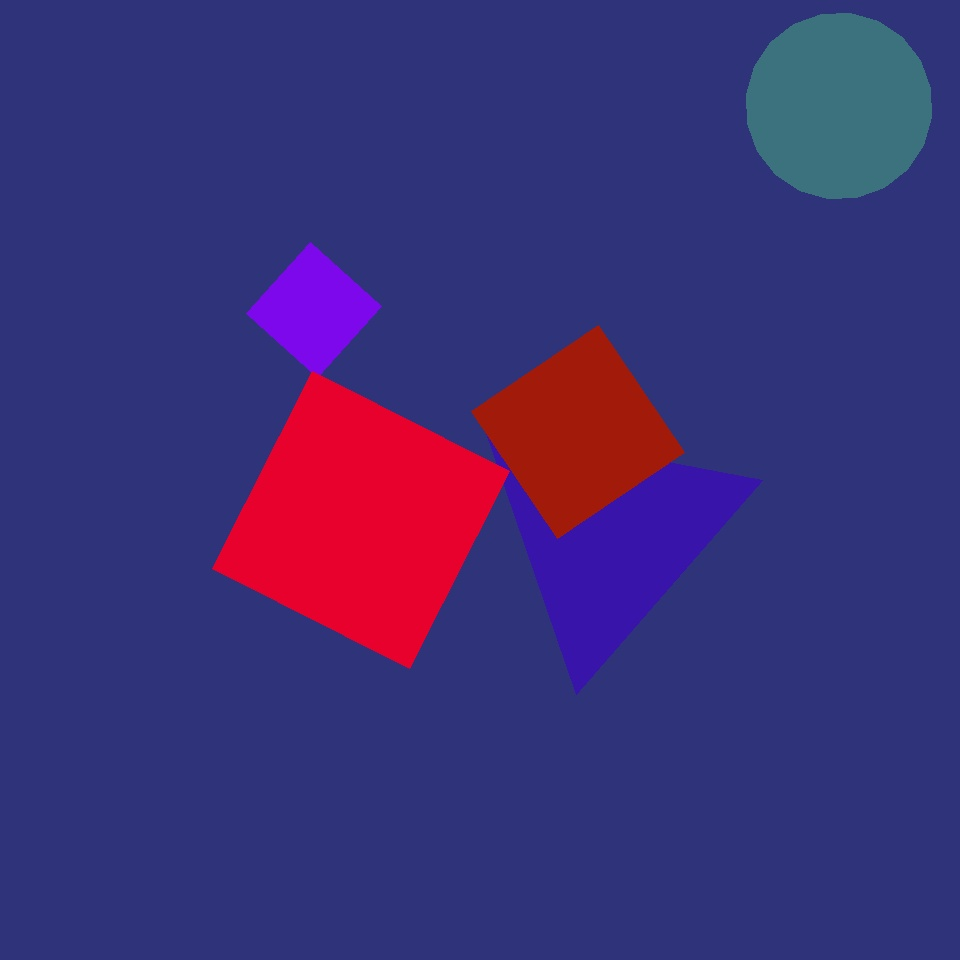circle: (469, 401, 747, 668)
square: (212, 372, 510, 668), (471, 326, 684, 538), (498, 393, 704, 598), (612, 168, 763, 320), (246, 243, 382, 378), (558, 28, 652, 122)
triangle: (295, 560, 661, 926), (483, 55, 807, 379), (608, 565, 894, 852), (746, 13, 931, 198)
